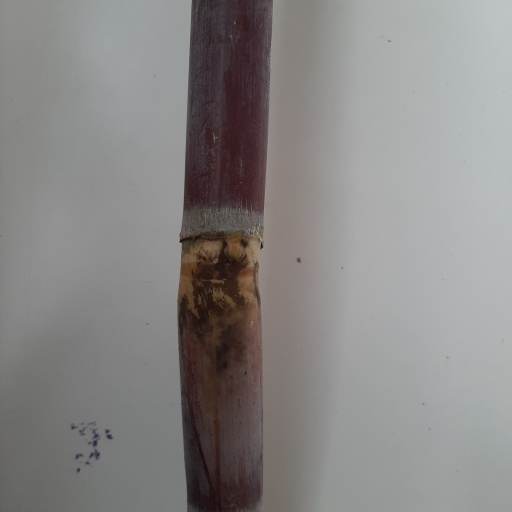Bud: (222, 235, 246, 265)
